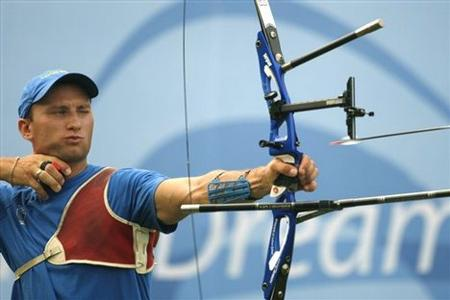person: (4, 66, 320, 298)
